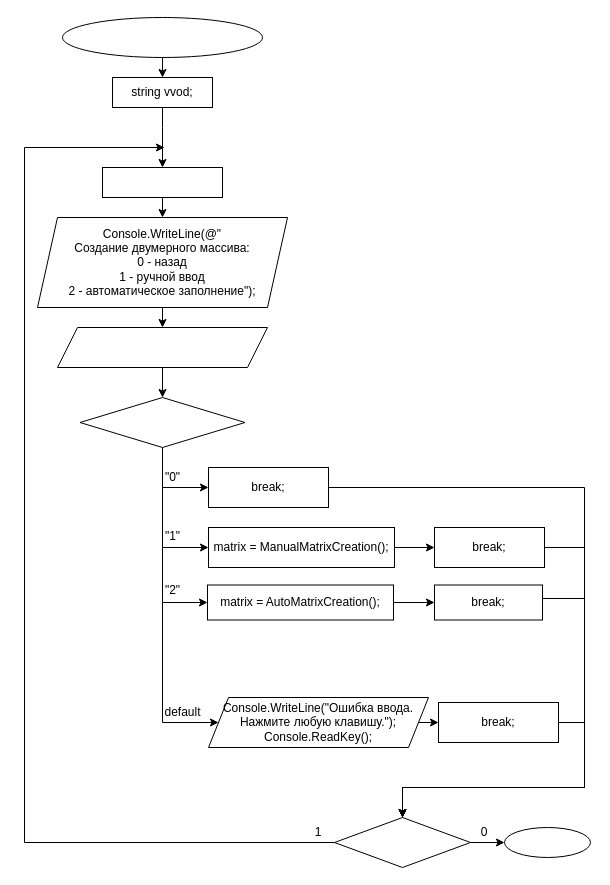
The diagram is 610 pixels wide and 885 high, and some of its shapes have lost their labels. The shapes that lost their labels are listed below. From the top down, each one's box as (x1, y1, x2, y2) in pixels, then its label:
(62, 16, 262, 58): static private void CreateMatrix()
(102, 166, 222, 198): Console.Clear();
(56, 326, 268, 368): vvod = Console.ReadLine();
(79, 396, 245, 448): switch (vvod)
(334, 816, 470, 868): while (vvod != "0");
